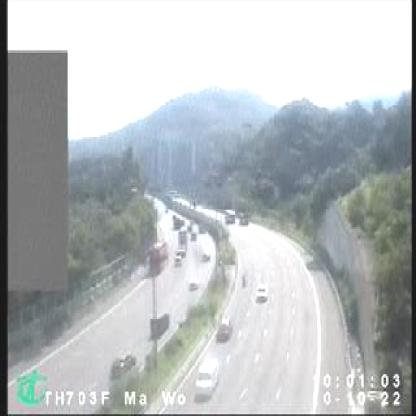Bus: (151, 240, 168, 273)
Car: (111, 352, 134, 379), (190, 276, 200, 290), (202, 250, 209, 260)
Truck: (196, 354, 219, 398), (218, 318, 233, 342), (258, 285, 268, 303)
